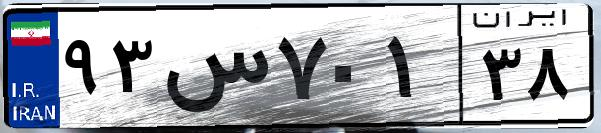0: (330, 28, 385, 110)
1: (385, 28, 445, 110)
3: (475, 38, 525, 113), (110, 28, 158, 98)
7: (270, 28, 330, 110)
8: (525, 38, 570, 115)
9: (57, 26, 110, 100)
س: (158, 20, 270, 120)
